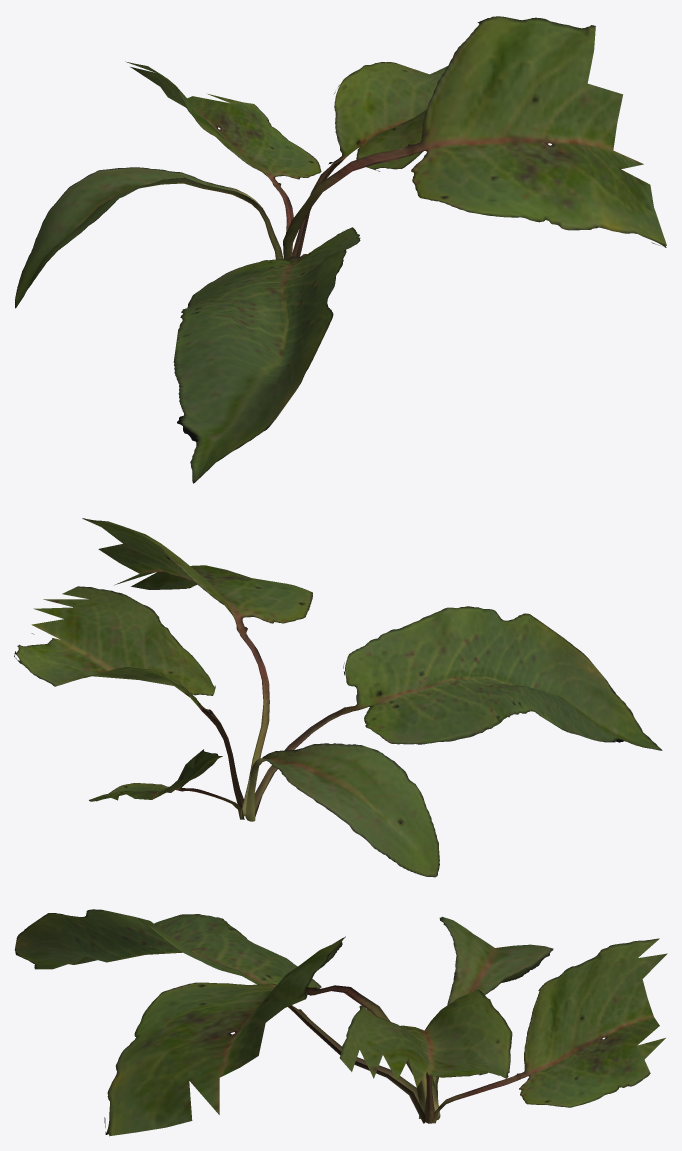
Rendered from weed_plant_02.glb.
The picture shows the model from 3 angles, top to bottom: view 1: azimuth 30°, elevation 25°; view 2: azimuth 150°, elevation 25°; view 3: azimuth 270°, elevation 25°; orthographic projection. The views are drawn at different scales.
Parts seen in each view (by area): view 1: weed_plant_02; view 2: weed_plant_02; view 3: weed_plant_02.
Part boxes in pixels (bbox=[...]): weed_plant_02: bbox=[15, 16, 666, 483]; weed_plant_02: bbox=[14, 518, 662, 877]; weed_plant_02: bbox=[15, 909, 667, 1136].
Size of the model in its own units: 1.55 by 0.7 by 1.55.
1 material, 1 textured.
